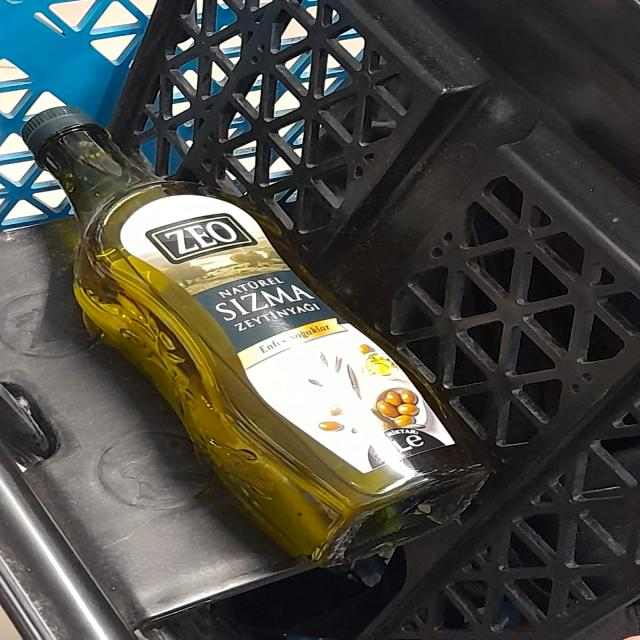olive oil: (92, 193, 489, 544)
